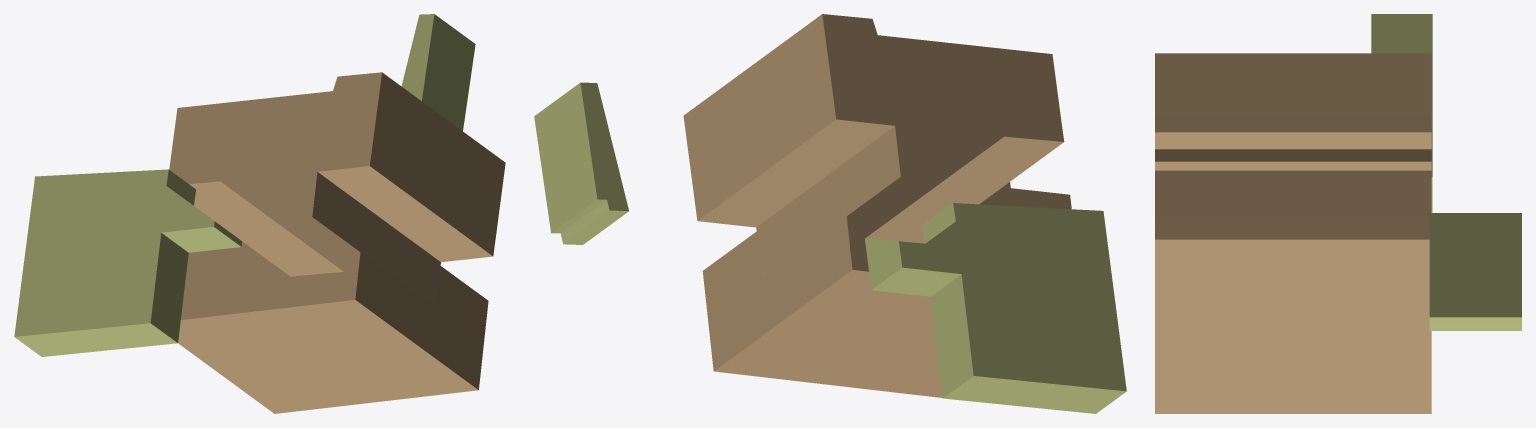
The picture shows the model from 3 angles, left to right: view 1: azimuth 30°, elevation 25°; view 2: azimuth 150°, elevation 25°; view 3: azimuth 270°, elevation 25°; orthographic projection. The views are drawn at different scales.
Parts seen in each view (by area): view 1: 0_0_1_2_3_3_0_0_3; view 2: 0_0_1_2_3_3_0_0_3; view 3: 0_0_1_2_3_3_0_0_3.
Boxes of the visible parts, x1,y1,x2,y2 form: 0_0_1_2_3_3_0_0_3: (14,14,505,413); 0_0_1_2_3_3_0_0_3: (534,14,1126,413); 0_0_1_2_3_3_0_0_3: (1155,14,1521,413).
Bounding box in the file's own units: 58.04 × 28.37 × 35.8.
